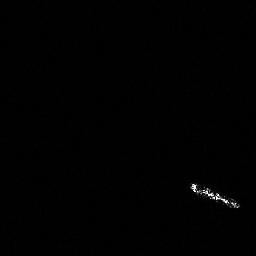ship: (188, 181, 240, 211)
